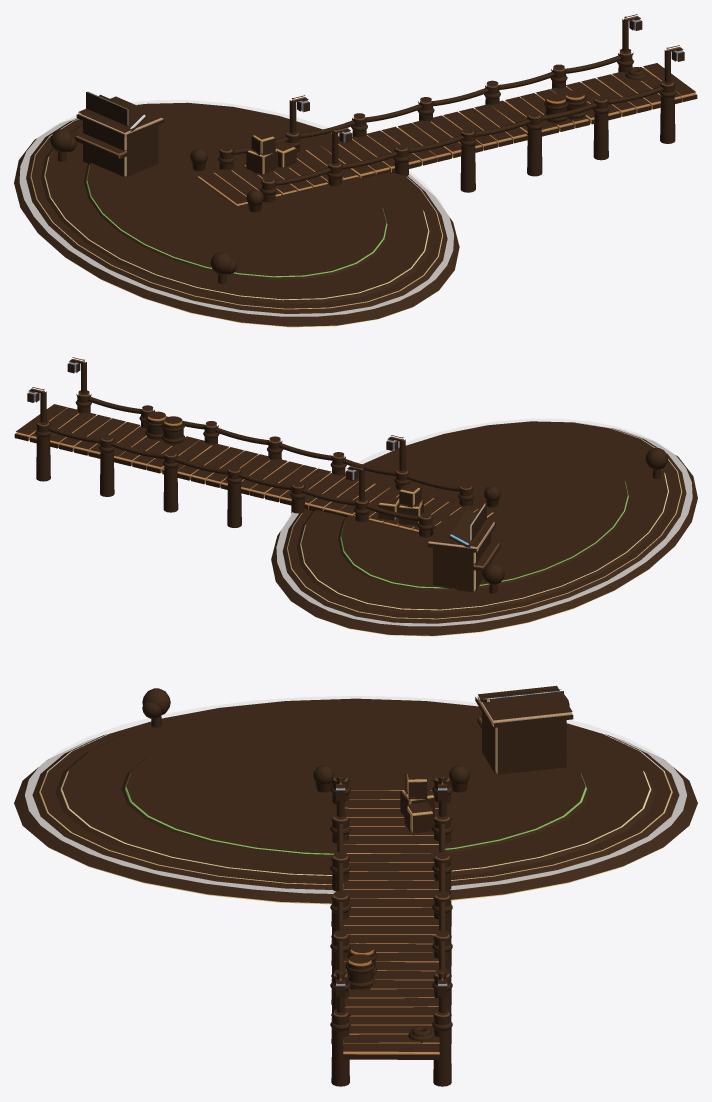
The model's file is dock.glb.
3 views of the same model, one above another, from view 1: azimuth 30°, elevation 25°; view 2: azimuth 150°, elevation 25°; view 3: azimuth 270°, elevation 25° (orthographic). The views are drawn at different scales.
Visible parts, largest first — view 1: outline (×24), Group (×2), Pier; view 2: outline (×21), Group (×2), Pier; view 3: outline (×26), Group (×2), Pier.
Boxes of the visible parts, bbox=[...] form: outline (×24): bbox=[14, 63, 697, 326]; Group (×2): bbox=[19, 91, 453, 327]; Pier: bbox=[197, 16, 696, 205]; outline (×21): bbox=[14, 404, 697, 635]; Group (×2): bbox=[276, 418, 692, 636]; Pier: bbox=[15, 359, 493, 531]; outline (×26): bbox=[14, 685, 697, 1086]; Group (×2): bbox=[25, 691, 686, 904]; Pier: bbox=[333, 774, 449, 1054].
Bounding box in the file's own units: 24.57 × 3.97 × 19.2.
